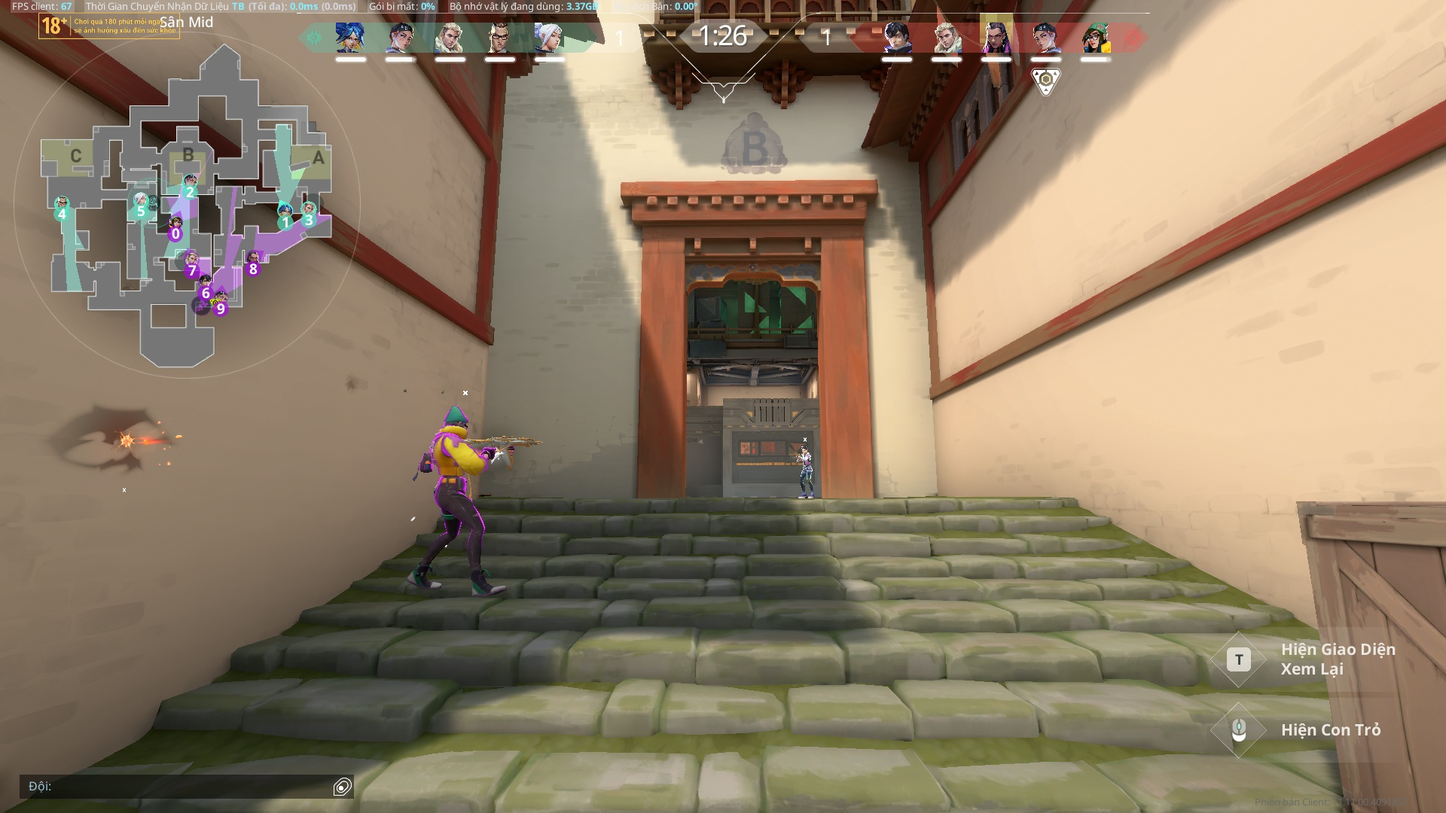body: (429, 428, 484, 476)
head: (442, 413, 468, 431)
